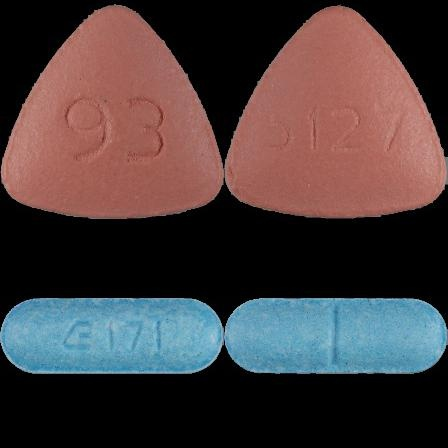43063-132: (0, 0, 224, 224)
